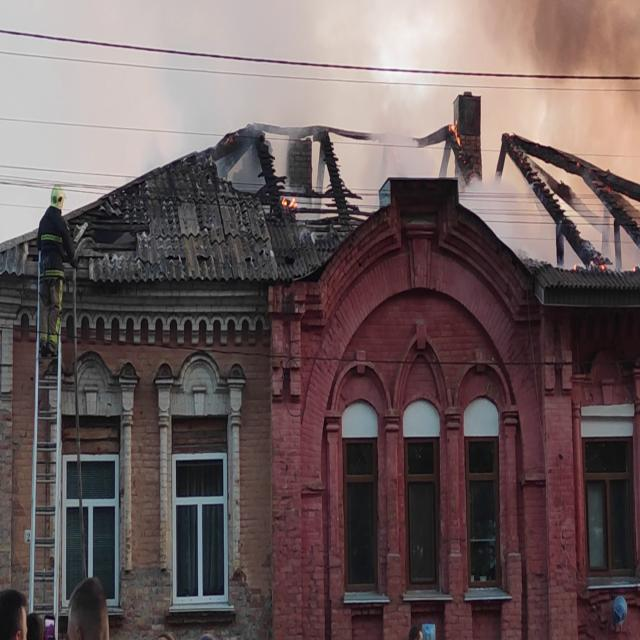smoke: (532, 0, 637, 124), (468, 180, 540, 261), (383, 99, 439, 175)
